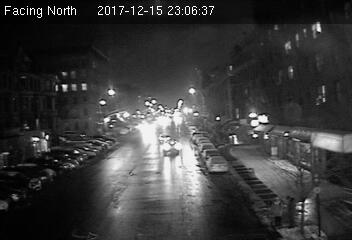car: (205, 156, 229, 175), (163, 140, 180, 155), (157, 133, 171, 143)
